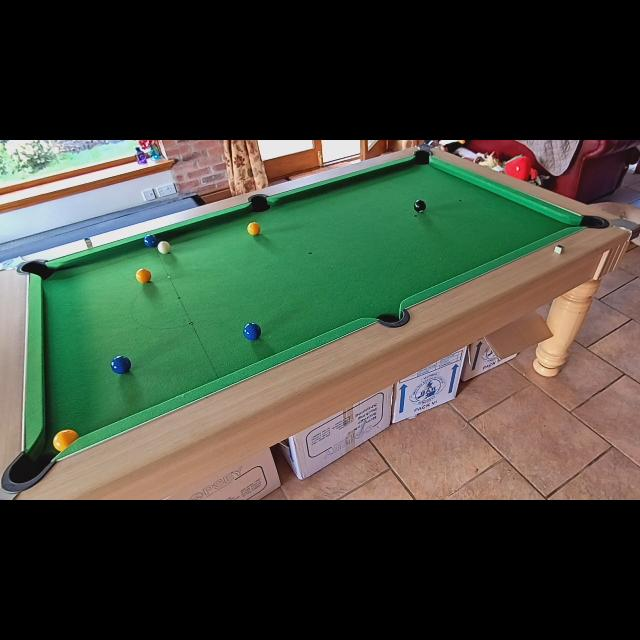Ball: (52, 430, 80, 452), (110, 356, 130, 374), (243, 322, 261, 340), (136, 268, 152, 284), (157, 241, 170, 255), (248, 222, 260, 236), (414, 199, 426, 213), (144, 235, 156, 248)
